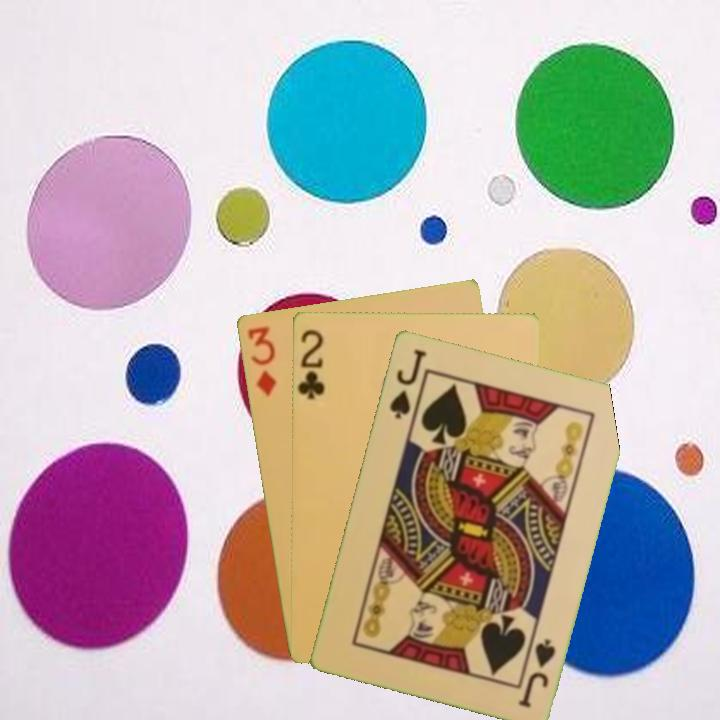2c: (294, 325, 327, 402)
3d: (243, 322, 279, 399)
Js: (385, 345, 430, 421), (514, 635, 558, 710)
